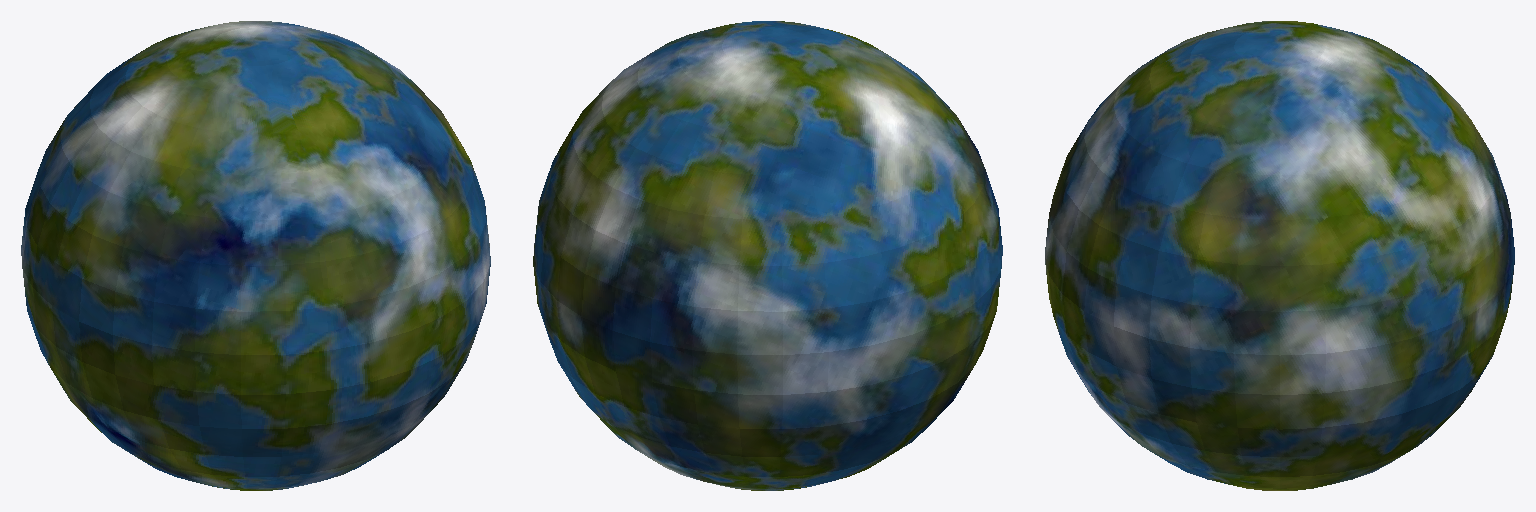
3 views of the same model, side by side, from view 1: azimuth 30°, elevation 25°; view 2: azimuth 150°, elevation 25°; view 3: azimuth 270°, elevation 25° (orthographic).
Visible parts, largest first — view 1: Sphere.004; view 2: Sphere.004; view 3: Sphere.004.
Boxes of the visible parts, <box> form: Sphere.004: <box>21,21,490,490</box>; Sphere.004: <box>533,21,1002,490</box>; Sphere.004: <box>1045,21,1514,490</box>.
Bounding box in the file's own units: 1.28 × 1.28 × 1.28.
Materials: 1 (1 with a texture image).